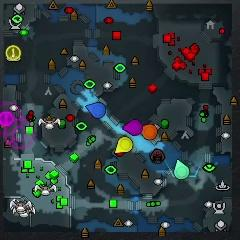Other: (0, 110, 14, 127), (6, 45, 21, 60)
p1: (86, 102, 106, 118)
p2: (174, 159, 189, 180)
p3: (123, 120, 142, 135)
p4: (114, 137, 133, 153)
p5: (141, 125, 158, 140)
